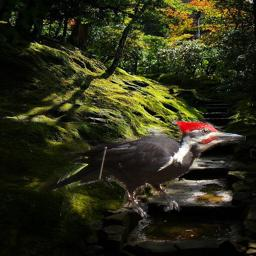Woodpecker: (38, 119, 246, 220)
